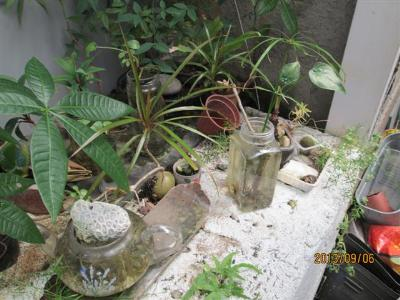bottle: (231, 116, 282, 211), (124, 66, 168, 155)
bowl: (49, 202, 155, 296), (198, 92, 241, 140)
plate: (276, 132, 332, 193)
